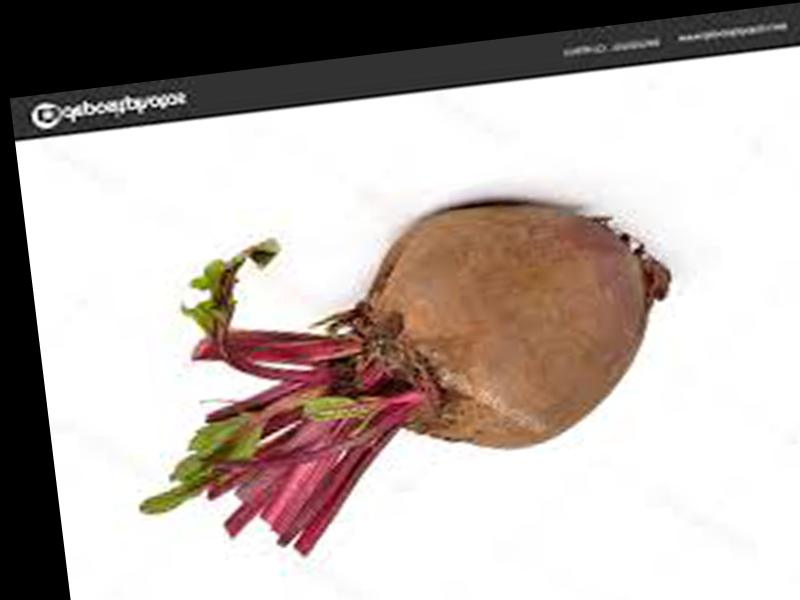Beet: (108, 178, 699, 575)
